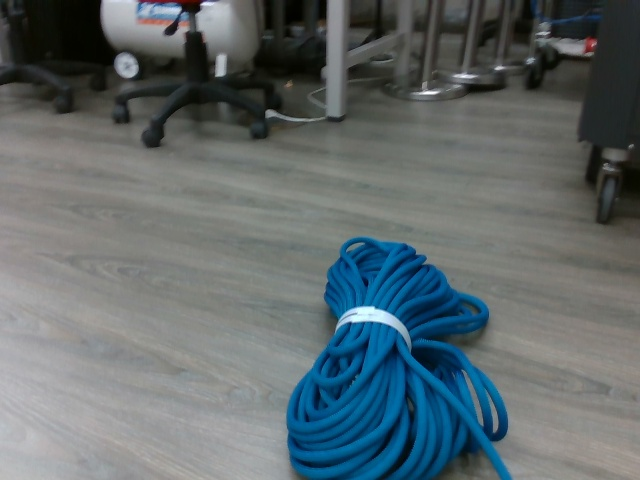rope: (285, 233, 513, 480)
